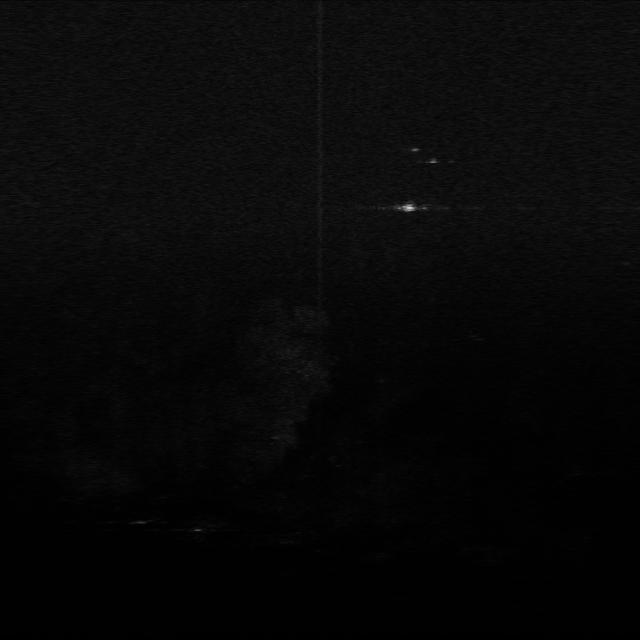rov: (397, 198, 418, 216)
